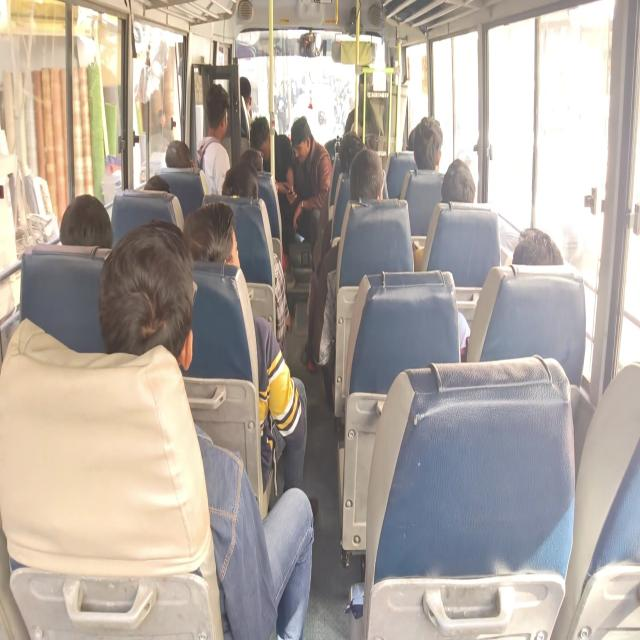person: (98, 218, 315, 638), (182, 200, 309, 512), (300, 147, 387, 372), (458, 226, 564, 362), (221, 160, 291, 356), (249, 116, 297, 270), (412, 158, 476, 272), (288, 115, 332, 248), (196, 83, 231, 195), (250, 115, 296, 195), (59, 193, 113, 248), (344, 80, 381, 144), (512, 227, 563, 266), (409, 115, 443, 171), (441, 158, 475, 203), (222, 161, 260, 198), (165, 140, 194, 168), (240, 76, 252, 138), (143, 174, 170, 192)
